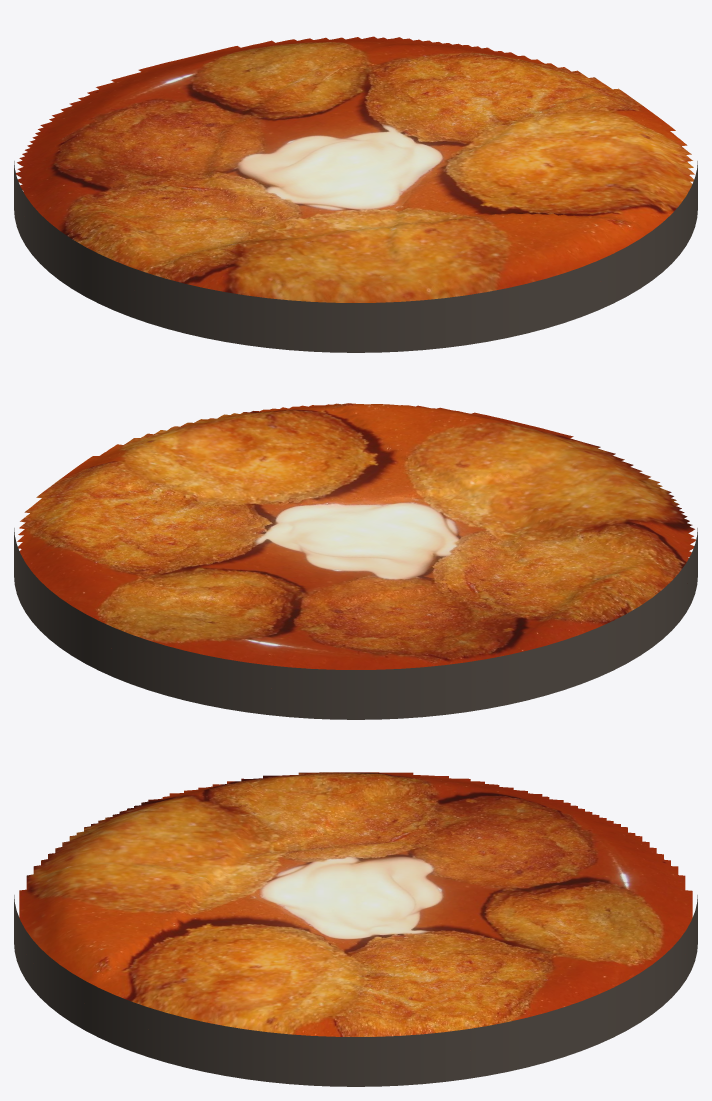
Rendered from plato.glb.
3 views of the same model, one above another, from view 1: azimuth 30°, elevation 25°; view 2: azimuth 150°, elevation 25°; view 3: azimuth 270°, elevation 25° (orthographic).
Size of the model in its own units: 0.2985 by 0.024 by 0.2985.
2 materials, 1 textured.
